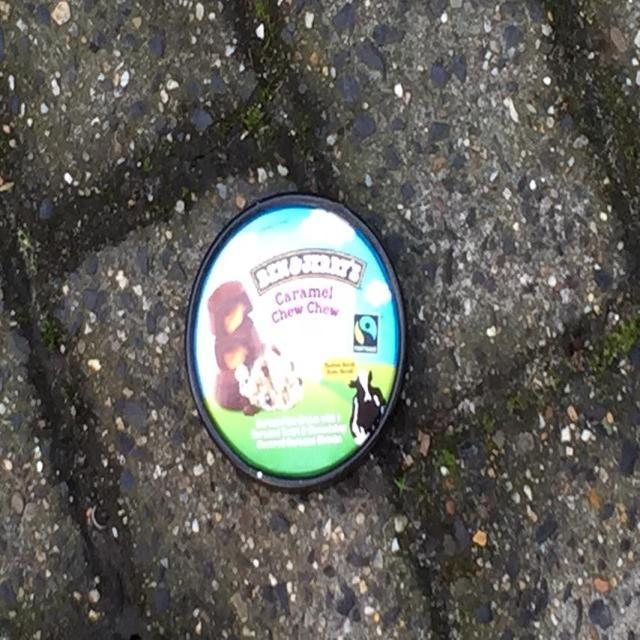Paper: (180, 186, 412, 494)
